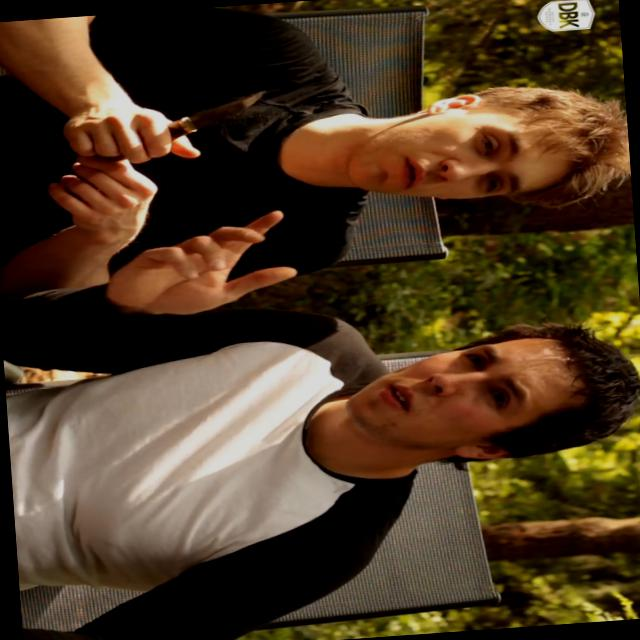knife: (107, 76, 281, 166)
